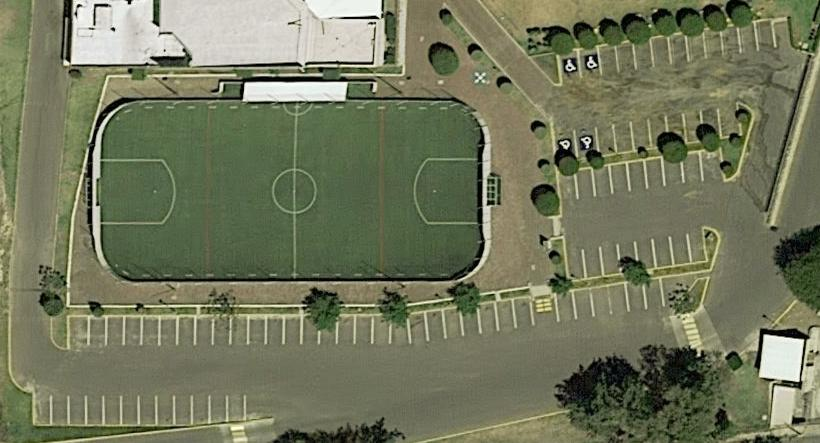parkingspot: (9, 0, 820, 442), (442, 0, 812, 250), (68, 295, 536, 352), (557, 16, 792, 86), (552, 102, 742, 168), (556, 147, 726, 202), (564, 230, 708, 282), (32, 394, 247, 426), (554, 276, 666, 324)
